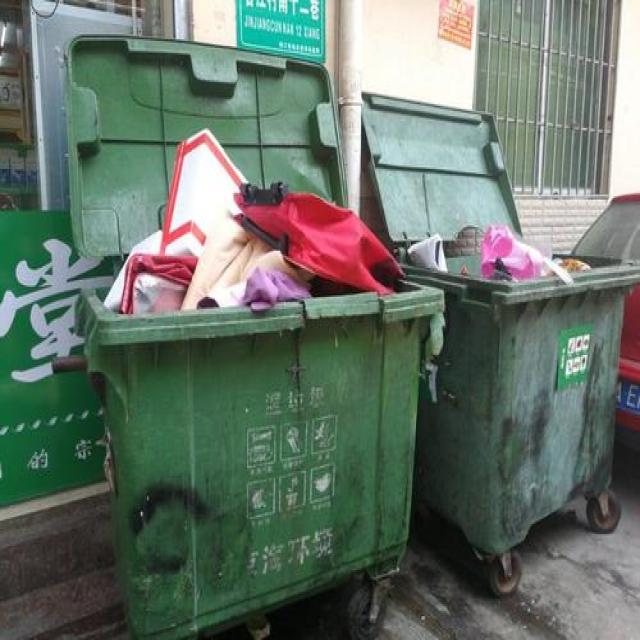overflow: (72, 126, 446, 638), (397, 223, 637, 554)
